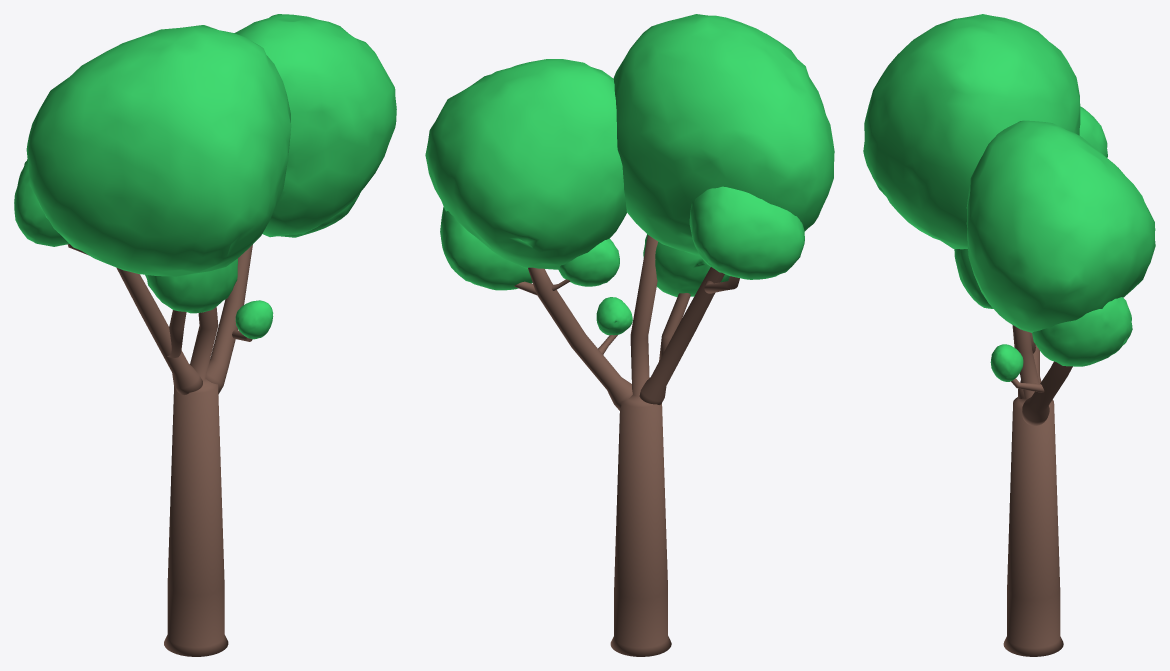
File: trees pack.glb
3 renders of one model, left to right at view 1: azimuth 30°, elevation 25°; view 2: azimuth 150°, elevation 25°; view 3: azimuth 270°, elevation 25°, orthographic. The views are drawn at different scales.
Visible parts, largest first — view 1: Icosphere.006, Cylinder.005; view 2: Icosphere.006, Cylinder.005; view 3: Icosphere.006, Cylinder.005.
Boxes of the visible parts, x1,y1,x2,y2 form: Icosphere.006: (14, 14, 396, 339); Cylinder.005: (67, 244, 252, 656); Icosphere.006: (425, 14, 834, 335); Cylinder.005: (514, 235, 739, 656); Icosphere.006: (863, 14, 1155, 381); Cylinder.005: (1003, 325, 1072, 656).
Bounding box in the file's own units: 3.25 × 5.23 × 2.31.
